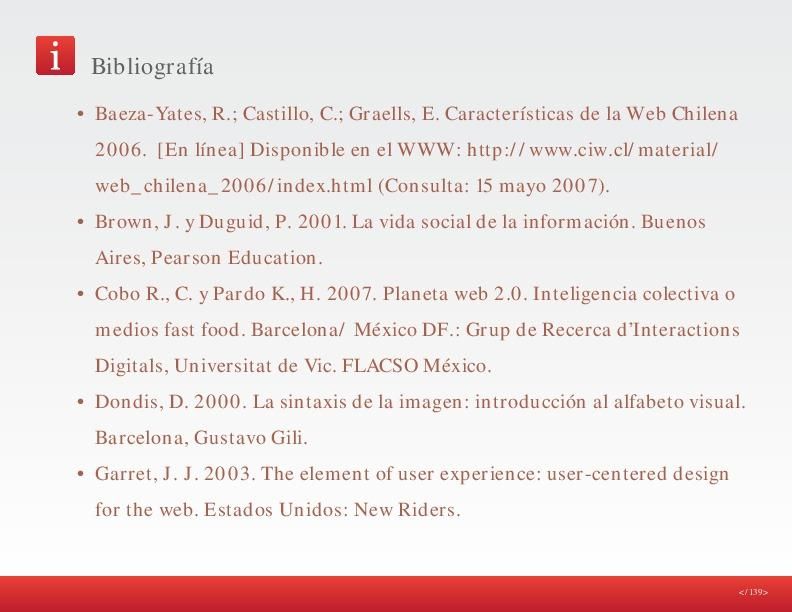paragraph: (71, 90, 762, 536)
title: (86, 47, 225, 82)
